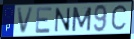9: (92, 4, 108, 34)
C: (110, 4, 129, 34)
E: (35, 6, 54, 35)
M: (71, 6, 93, 33)
N: (54, 7, 71, 33)
V: (16, 6, 36, 35)
